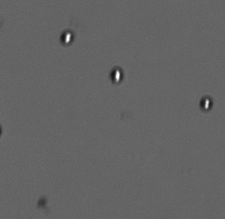Living Cell: (59, 27, 76, 46), (108, 66, 124, 84), (199, 95, 214, 113)
